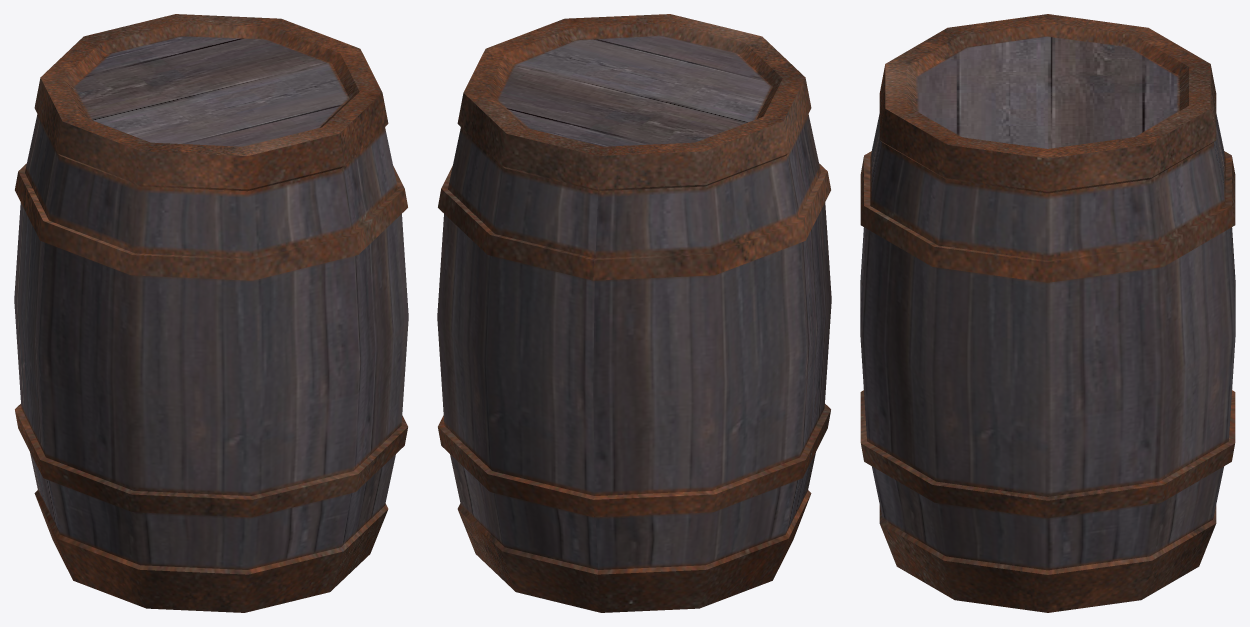
The model's file is barrel.fbx.
3 renders of one model, left to right at view 1: azimuth 30°, elevation 25°; view 2: azimuth 150°, elevation 25°; view 3: azimuth 270°, elevation 25°, orthographic.
Visible parts, largest first — view 1: barrelMesh; view 2: barrelMesh; view 3: barrelMesh.
Part boxes in pixels (x1,y1,x2,y2): barrelMesh: [14, 14, 408, 612]; barrelMesh: [437, 14, 831, 612]; barrelMesh: [860, 14, 1235, 612].
Size of the model in its own units: 83.49 by 107 by 79.4.
